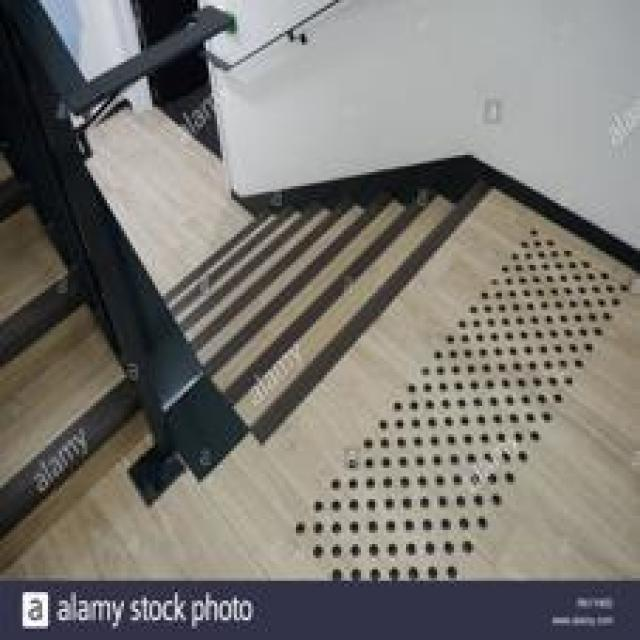downstair: (165, 213, 464, 464)
